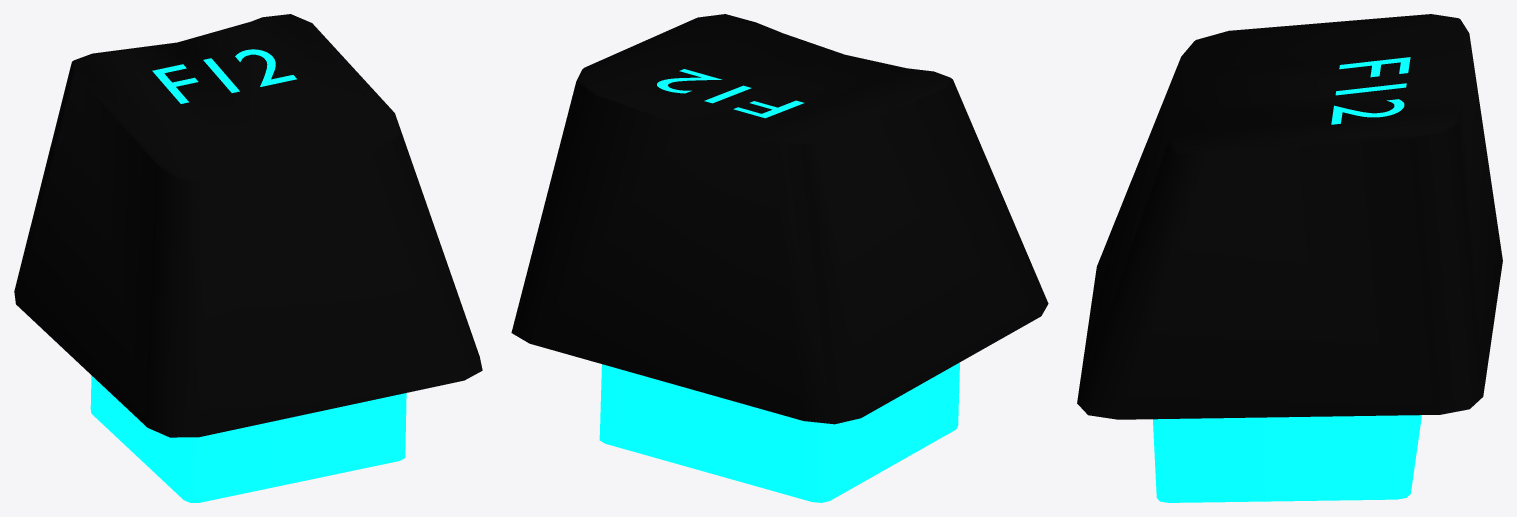
The model's file is f12-DRpsiU_O.glb.
The picture shows the model from 3 angles, left to right: view 1: azimuth 30°, elevation 25°; view 2: azimuth 150°, elevation 25°; view 3: azimuth 270°, elevation 25°; orthographic projection. The views are drawn at different scales.
Visible parts, largest first — view 1: StudyShelf_1097; view 2: StudyShelf_1097; view 3: StudyShelf_1097.
Part boxes in pixels (x1,y1,x2,y2): StudyShelf_1097: (14,14,482,502); StudyShelf_1097: (511,14,1048,502); StudyShelf_1097: (1077,14,1502,502).
Size of the model in its own units: 4.35 by 4.28 by 4.35.
